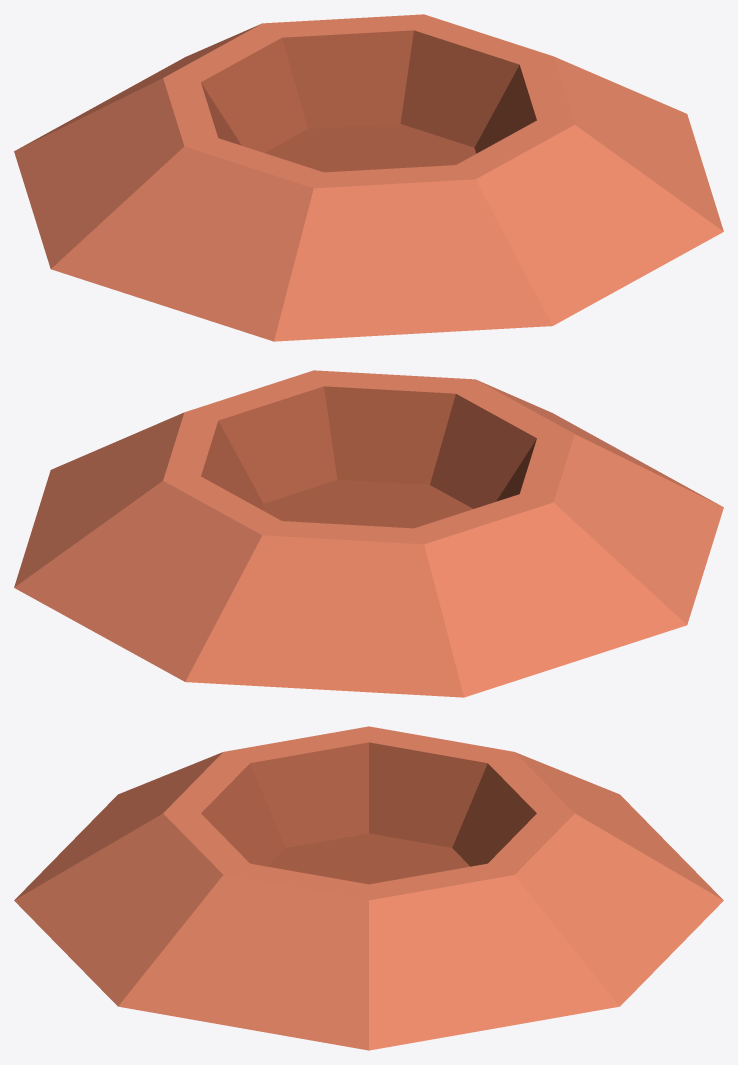
Rendered from craterLarge.obj.
3 renders of one model, top to bottom at view 1: azimuth 30°, elevation 25°; view 2: azimuth 150°, elevation 25°; view 3: azimuth 270°, elevation 25°, orthographic. The views are drawn at different scales.
Visible parts, largest first — view 1: craterLarge; view 2: craterLarge; view 3: craterLarge.
Part boxes in pixels (x1,y1,x2,y2): craterLarge: [14, 14, 723, 341]; craterLarge: [14, 370, 723, 697]; craterLarge: [14, 726, 723, 1050].
Bounding box in the file's own units: 0.886 × 0.12 × 0.886.
